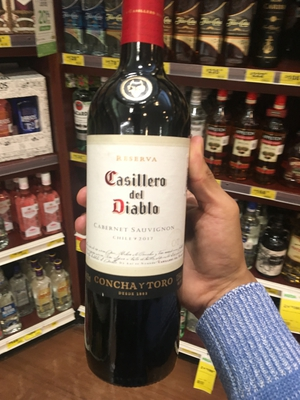casillero del diablo cabernet sauvignon: (88, 14, 199, 372)
